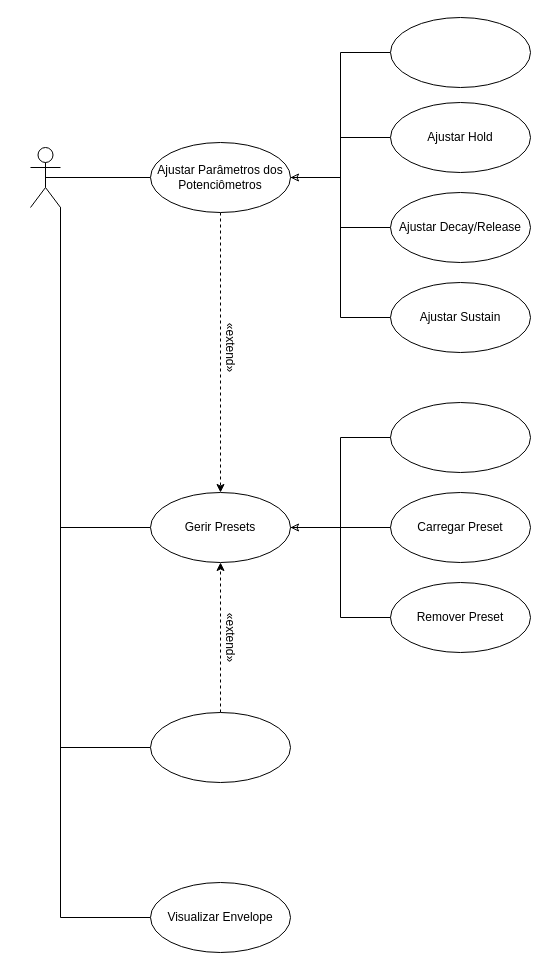
Some shapes in this 548 by 970 pixel diagram are drawn without their labels. The shapes that lost their labels are listed below. From the top down, each one's centre as x and y in pixels, then its label:
At [460,52]: "Ajustar Attack".
At [45,177]: "Entusiasta".
At [460,437]: "Salvar Preset".
At [220,747]: "Ajustar Parâmetros do Sequenciador".
